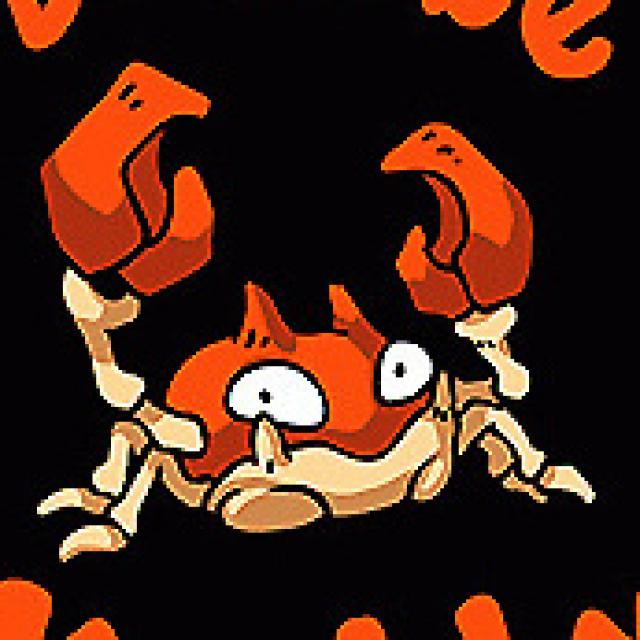Krabby: (61, 135, 612, 566)
